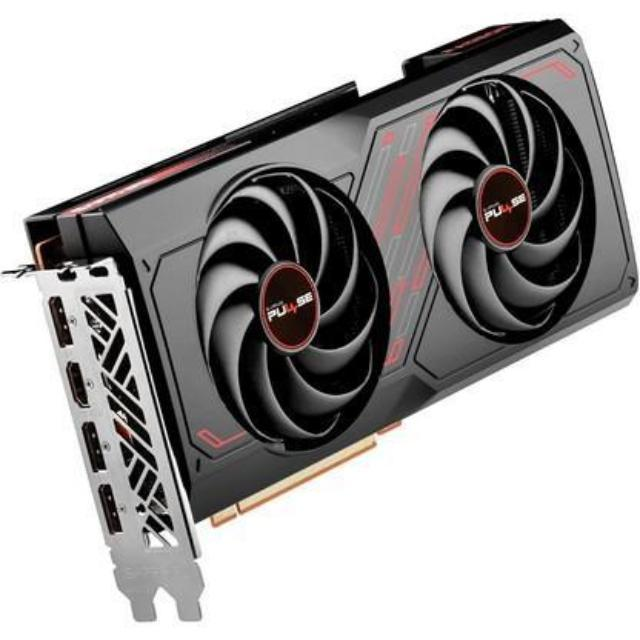GPU: (52, 13, 630, 527)
